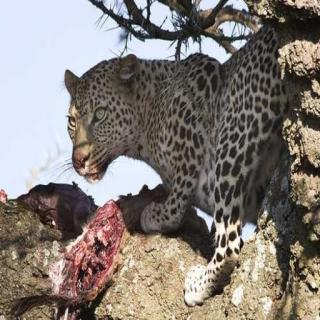Leopard: (64, 38, 320, 274)
